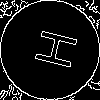H: (25, 25, 78, 71)
